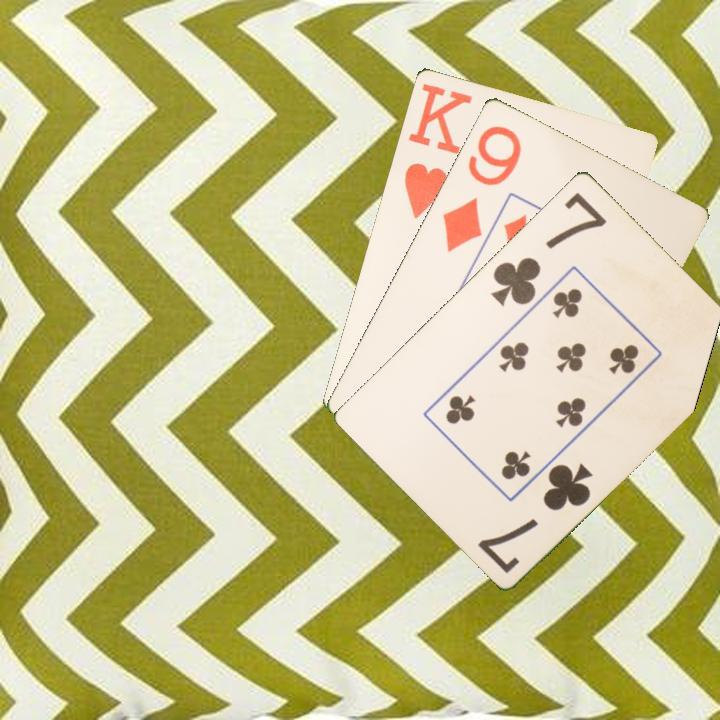7c: (487, 188, 610, 308), (474, 458, 596, 576)
9d: (438, 121, 525, 255)
Kh: (400, 79, 475, 221)
